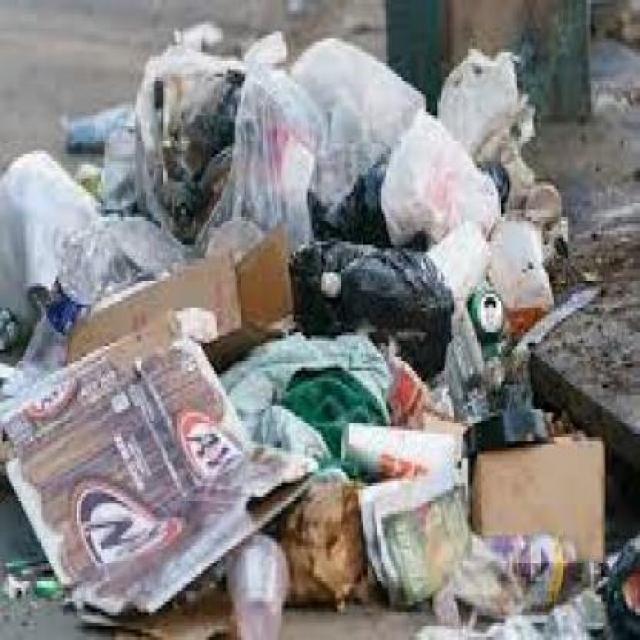garbage: (3, 39, 638, 636)
